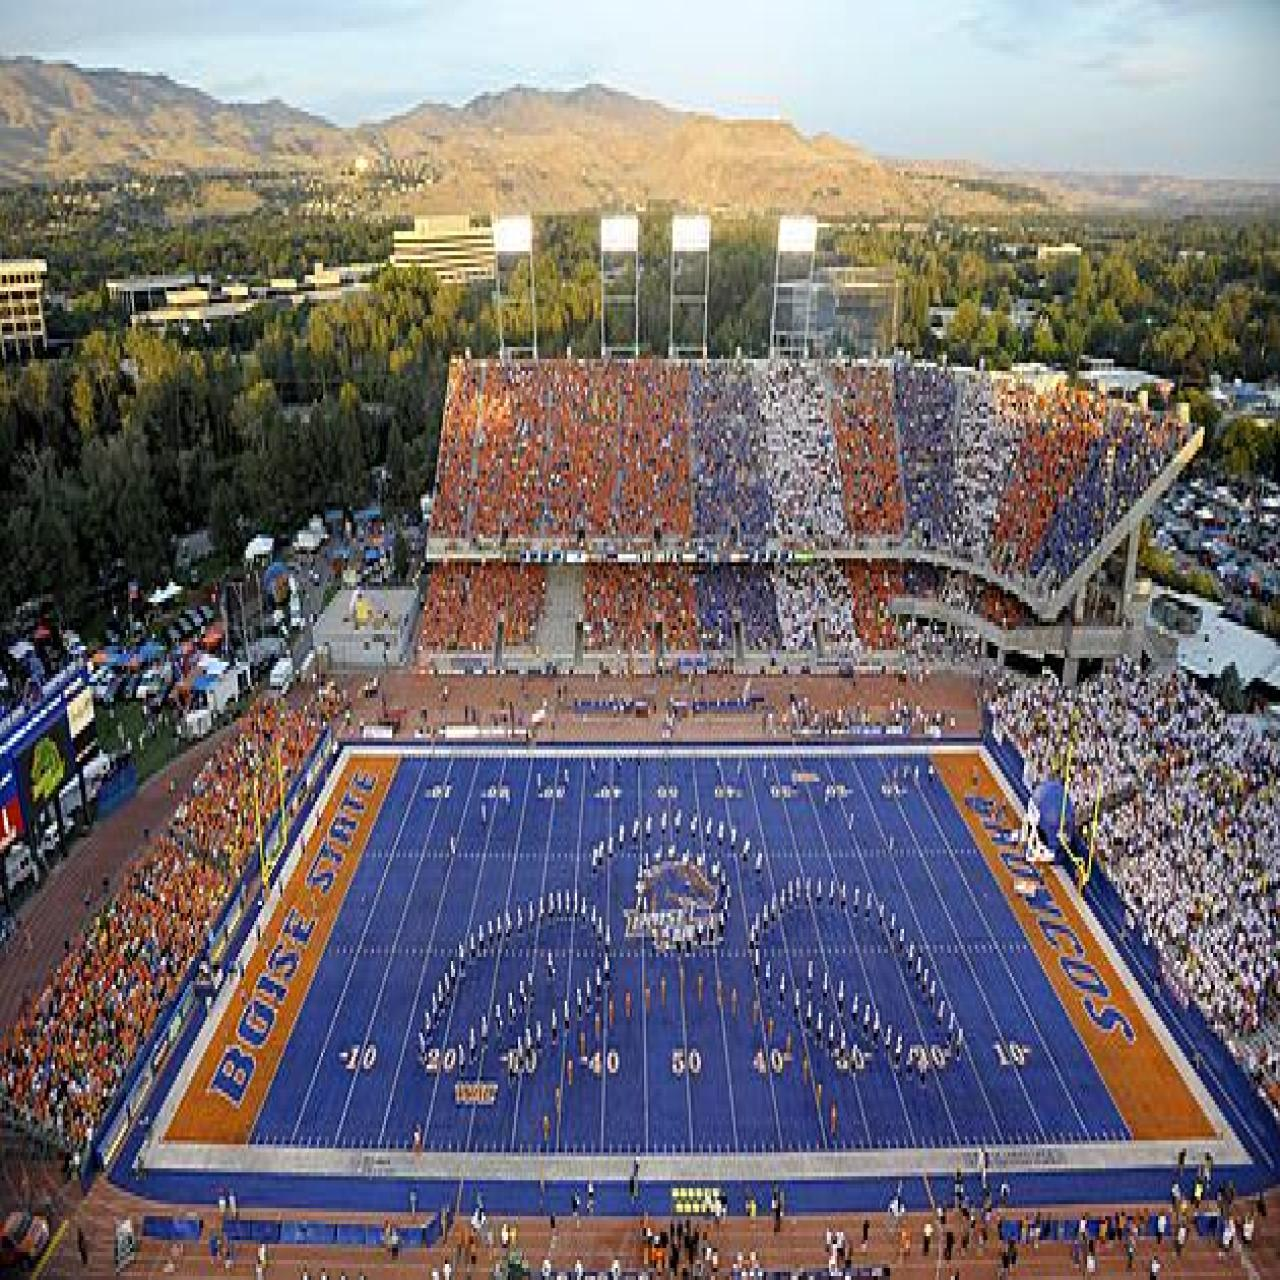10L: (337, 1040, 378, 1072), (425, 784, 453, 800)
10R: (994, 1038, 1032, 1066), (881, 784, 909, 800)
20L: (417, 1044, 457, 1072), (482, 781, 512, 806)
20R: (908, 1040, 953, 1068), (826, 782, 854, 802)
30L: (500, 1048, 536, 1072), (537, 784, 566, 800)
30R: (834, 1044, 873, 1072), (769, 784, 802, 800)
40L: (578, 1046, 621, 1078), (593, 784, 624, 800)
40R: (752, 1046, 794, 1074), (713, 784, 744, 800)
50: (670, 1046, 703, 1074), (655, 782, 680, 802)
